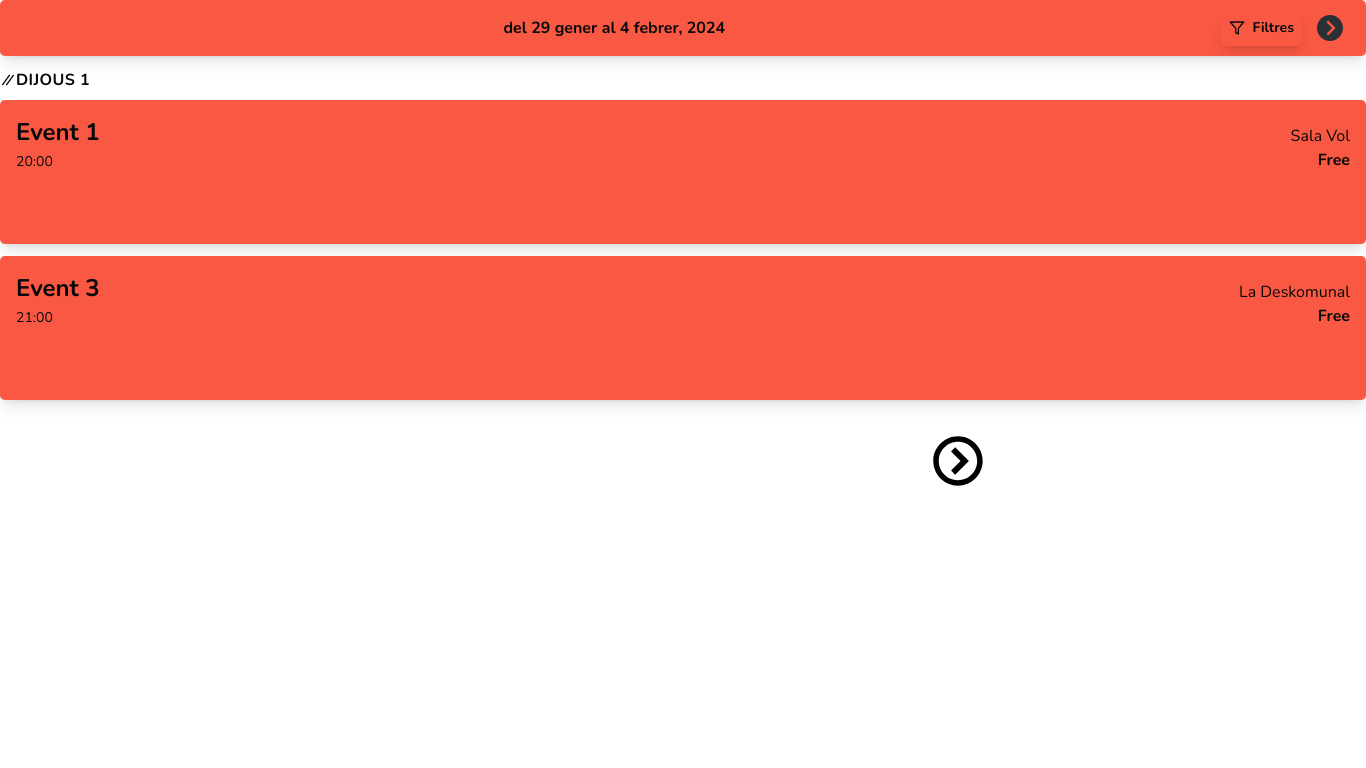
Test: unit tests of the EventList component › filters by venue across all weeks with accent-insensitive matching
This screenshot has width=1366, height=768.
Click the button with test id "filters-toggle" at (1261, 28), box [1220,10,1302,46]
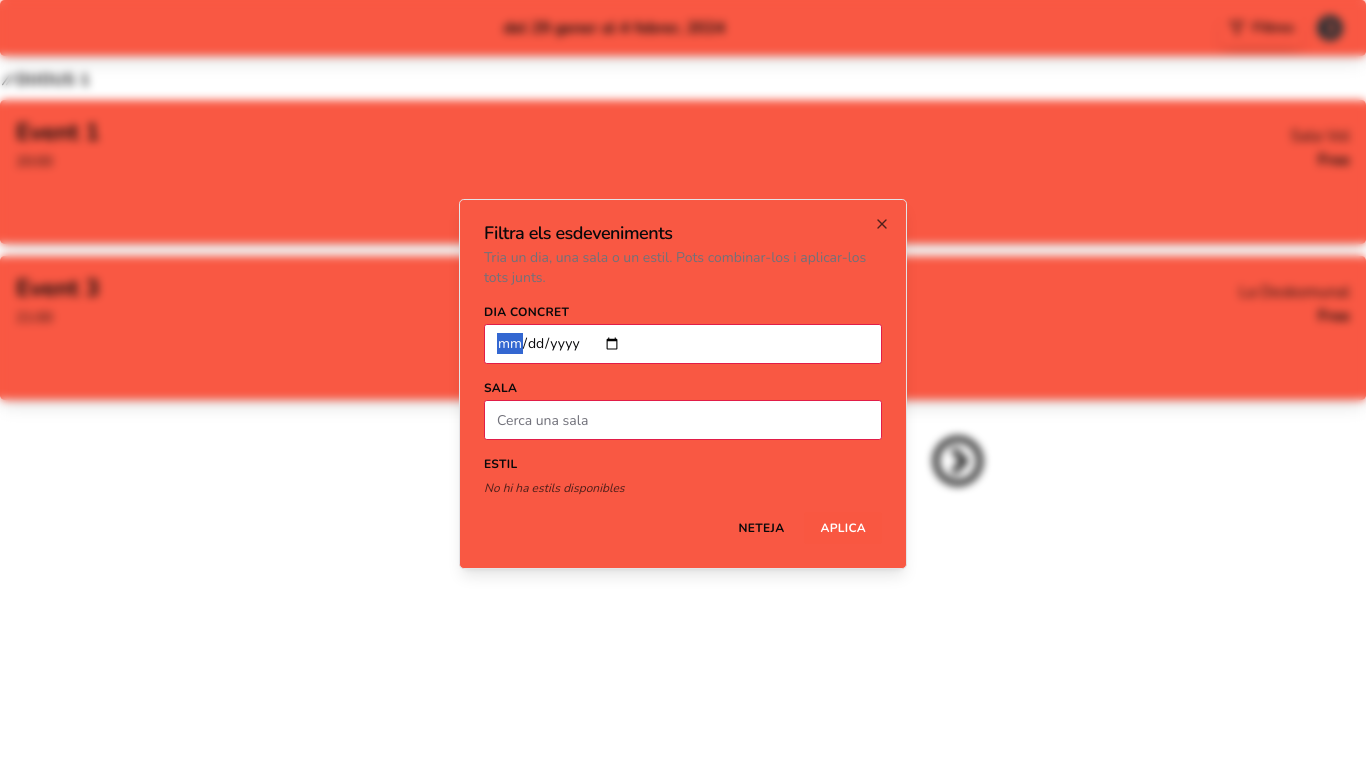
Type "vol" into the field with test id "filter-location" at (683, 420), box [484,400,882,440]
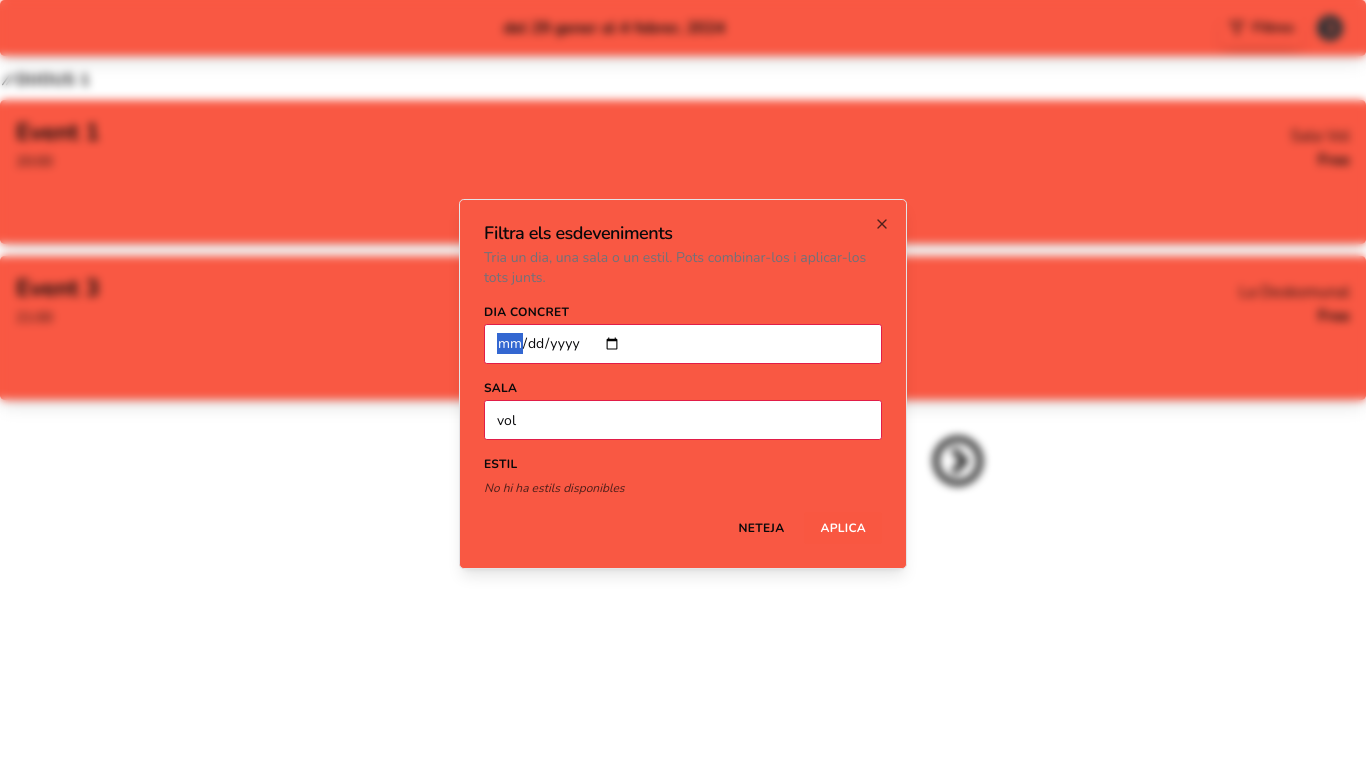
Click the button with test id "apply-filters" at (843, 528), box [804,512,882,544]
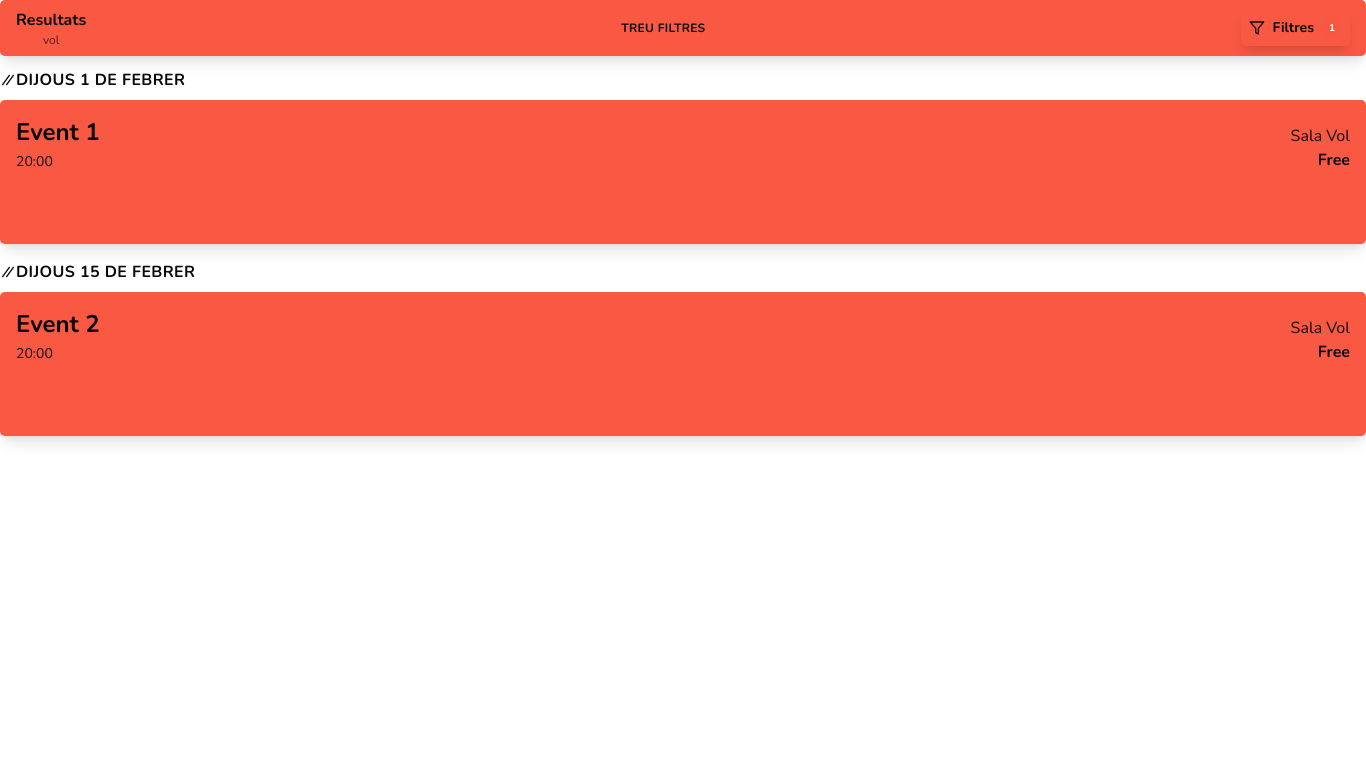
Expected: the number of elements with test id "event-row" is 2, [0,100,1365,244]; [0,292,1365,436]
Result: the text "Event 2" is shown at [16,308,100,340]
Result: the button with test id "next-week-button" is gone
